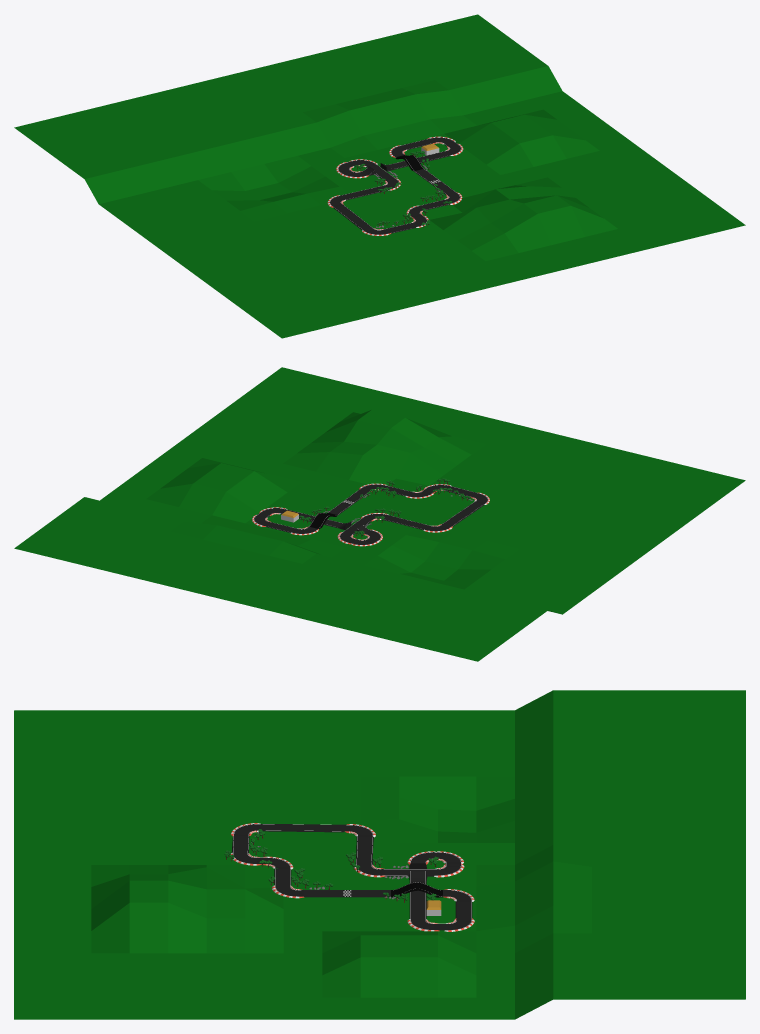
File: finishedmapreal.fbx
3 views of the same model, one above another, from view 1: azimuth 30°, elevation 25°; view 2: azimuth 150°, elevation 25°; view 3: azimuth 270°, elevation 25° (orthographic). The views are drawn at different scales.
Visible parts, largest first — view 1: Plane.001, Plane; view 2: Plane.001; view 3: Plane.001, Plane, roadnobump.012.
Part boxes in pixels (x1,y1,x2,y2): Plane.001: (14, 14, 745, 338); Plane: (283, 80, 745, 338); Plane.001: (14, 367, 745, 661); Plane.001: (14, 690, 745, 1019); Plane: (14, 711, 745, 1019); roadnobump.012: (260, 824, 344, 832).
Bounding box in the file's own units: 100016 × 6136 × 100024.
